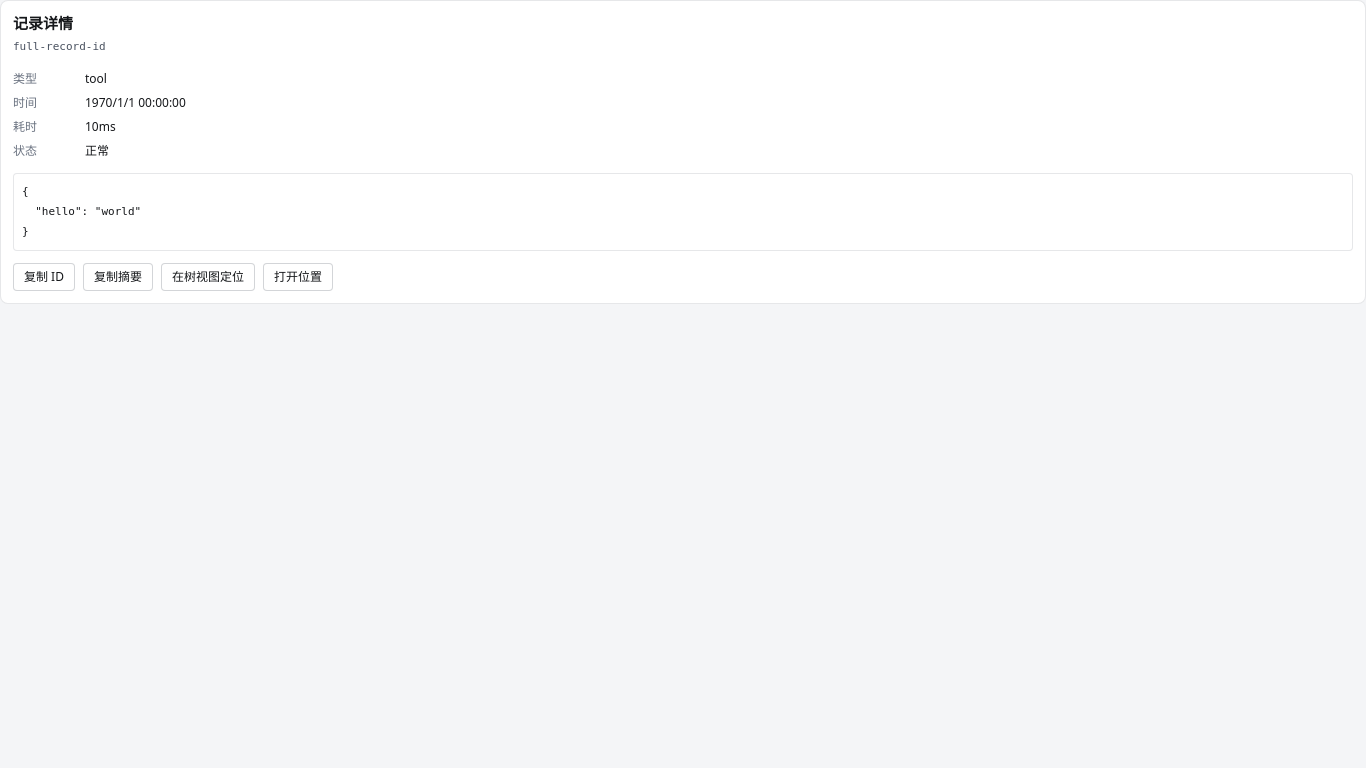
Test case: 复制失败时除了就地错误也弹一条错误提示
The width and height of the screenshot is (1366, 768).
Click the button "复制摘要": (118, 277) [83,263,153,291]
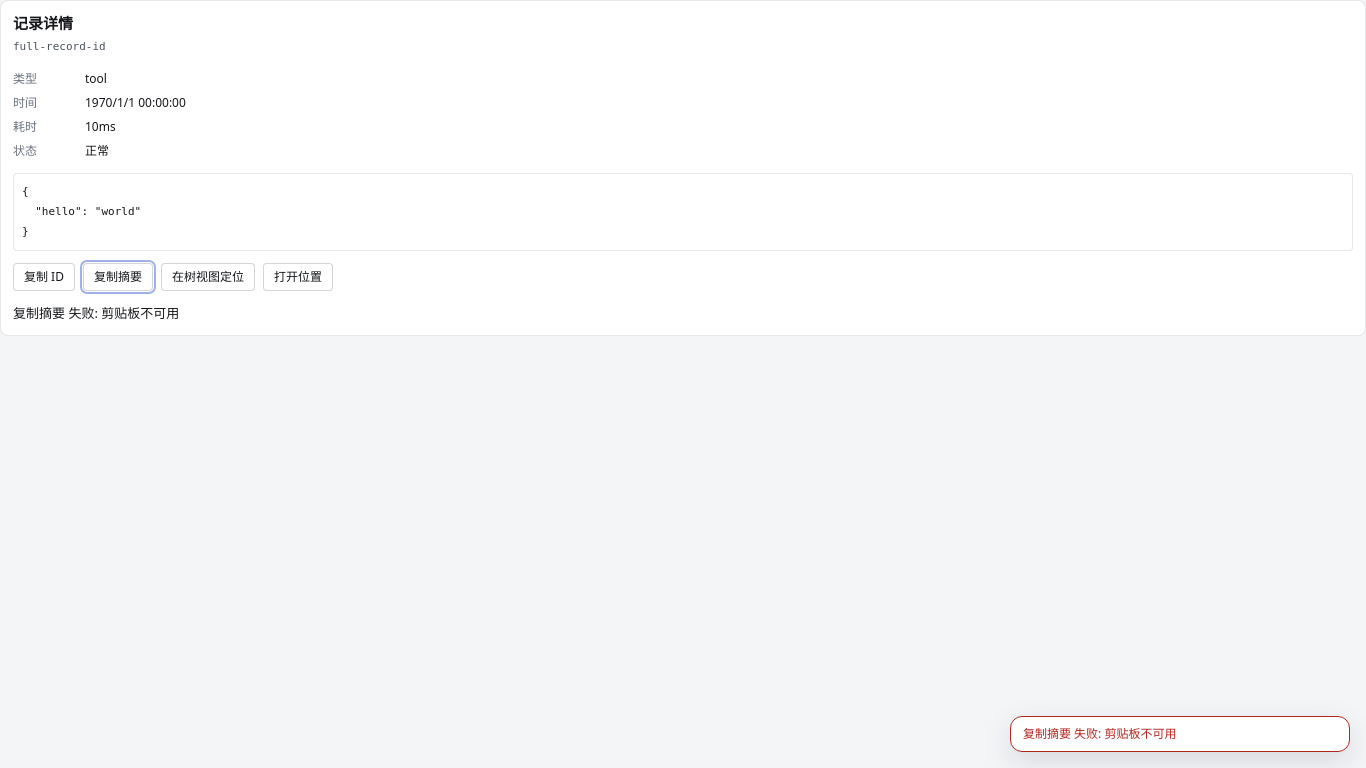
Now the message "复制摘要 失败: 剪贴板不可用" below "{ \"hello\": \"world\" }" is shown, box [13,304,179,322]
